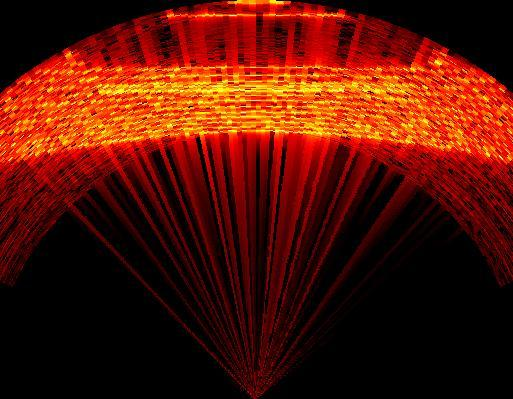pipe: (61, 14, 448, 70)
